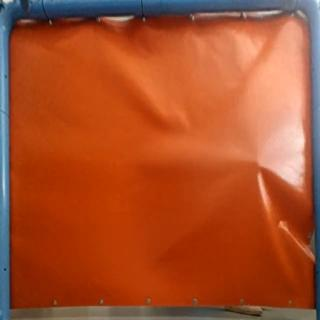Hit-hRxx: (247, 154, 268, 174)
